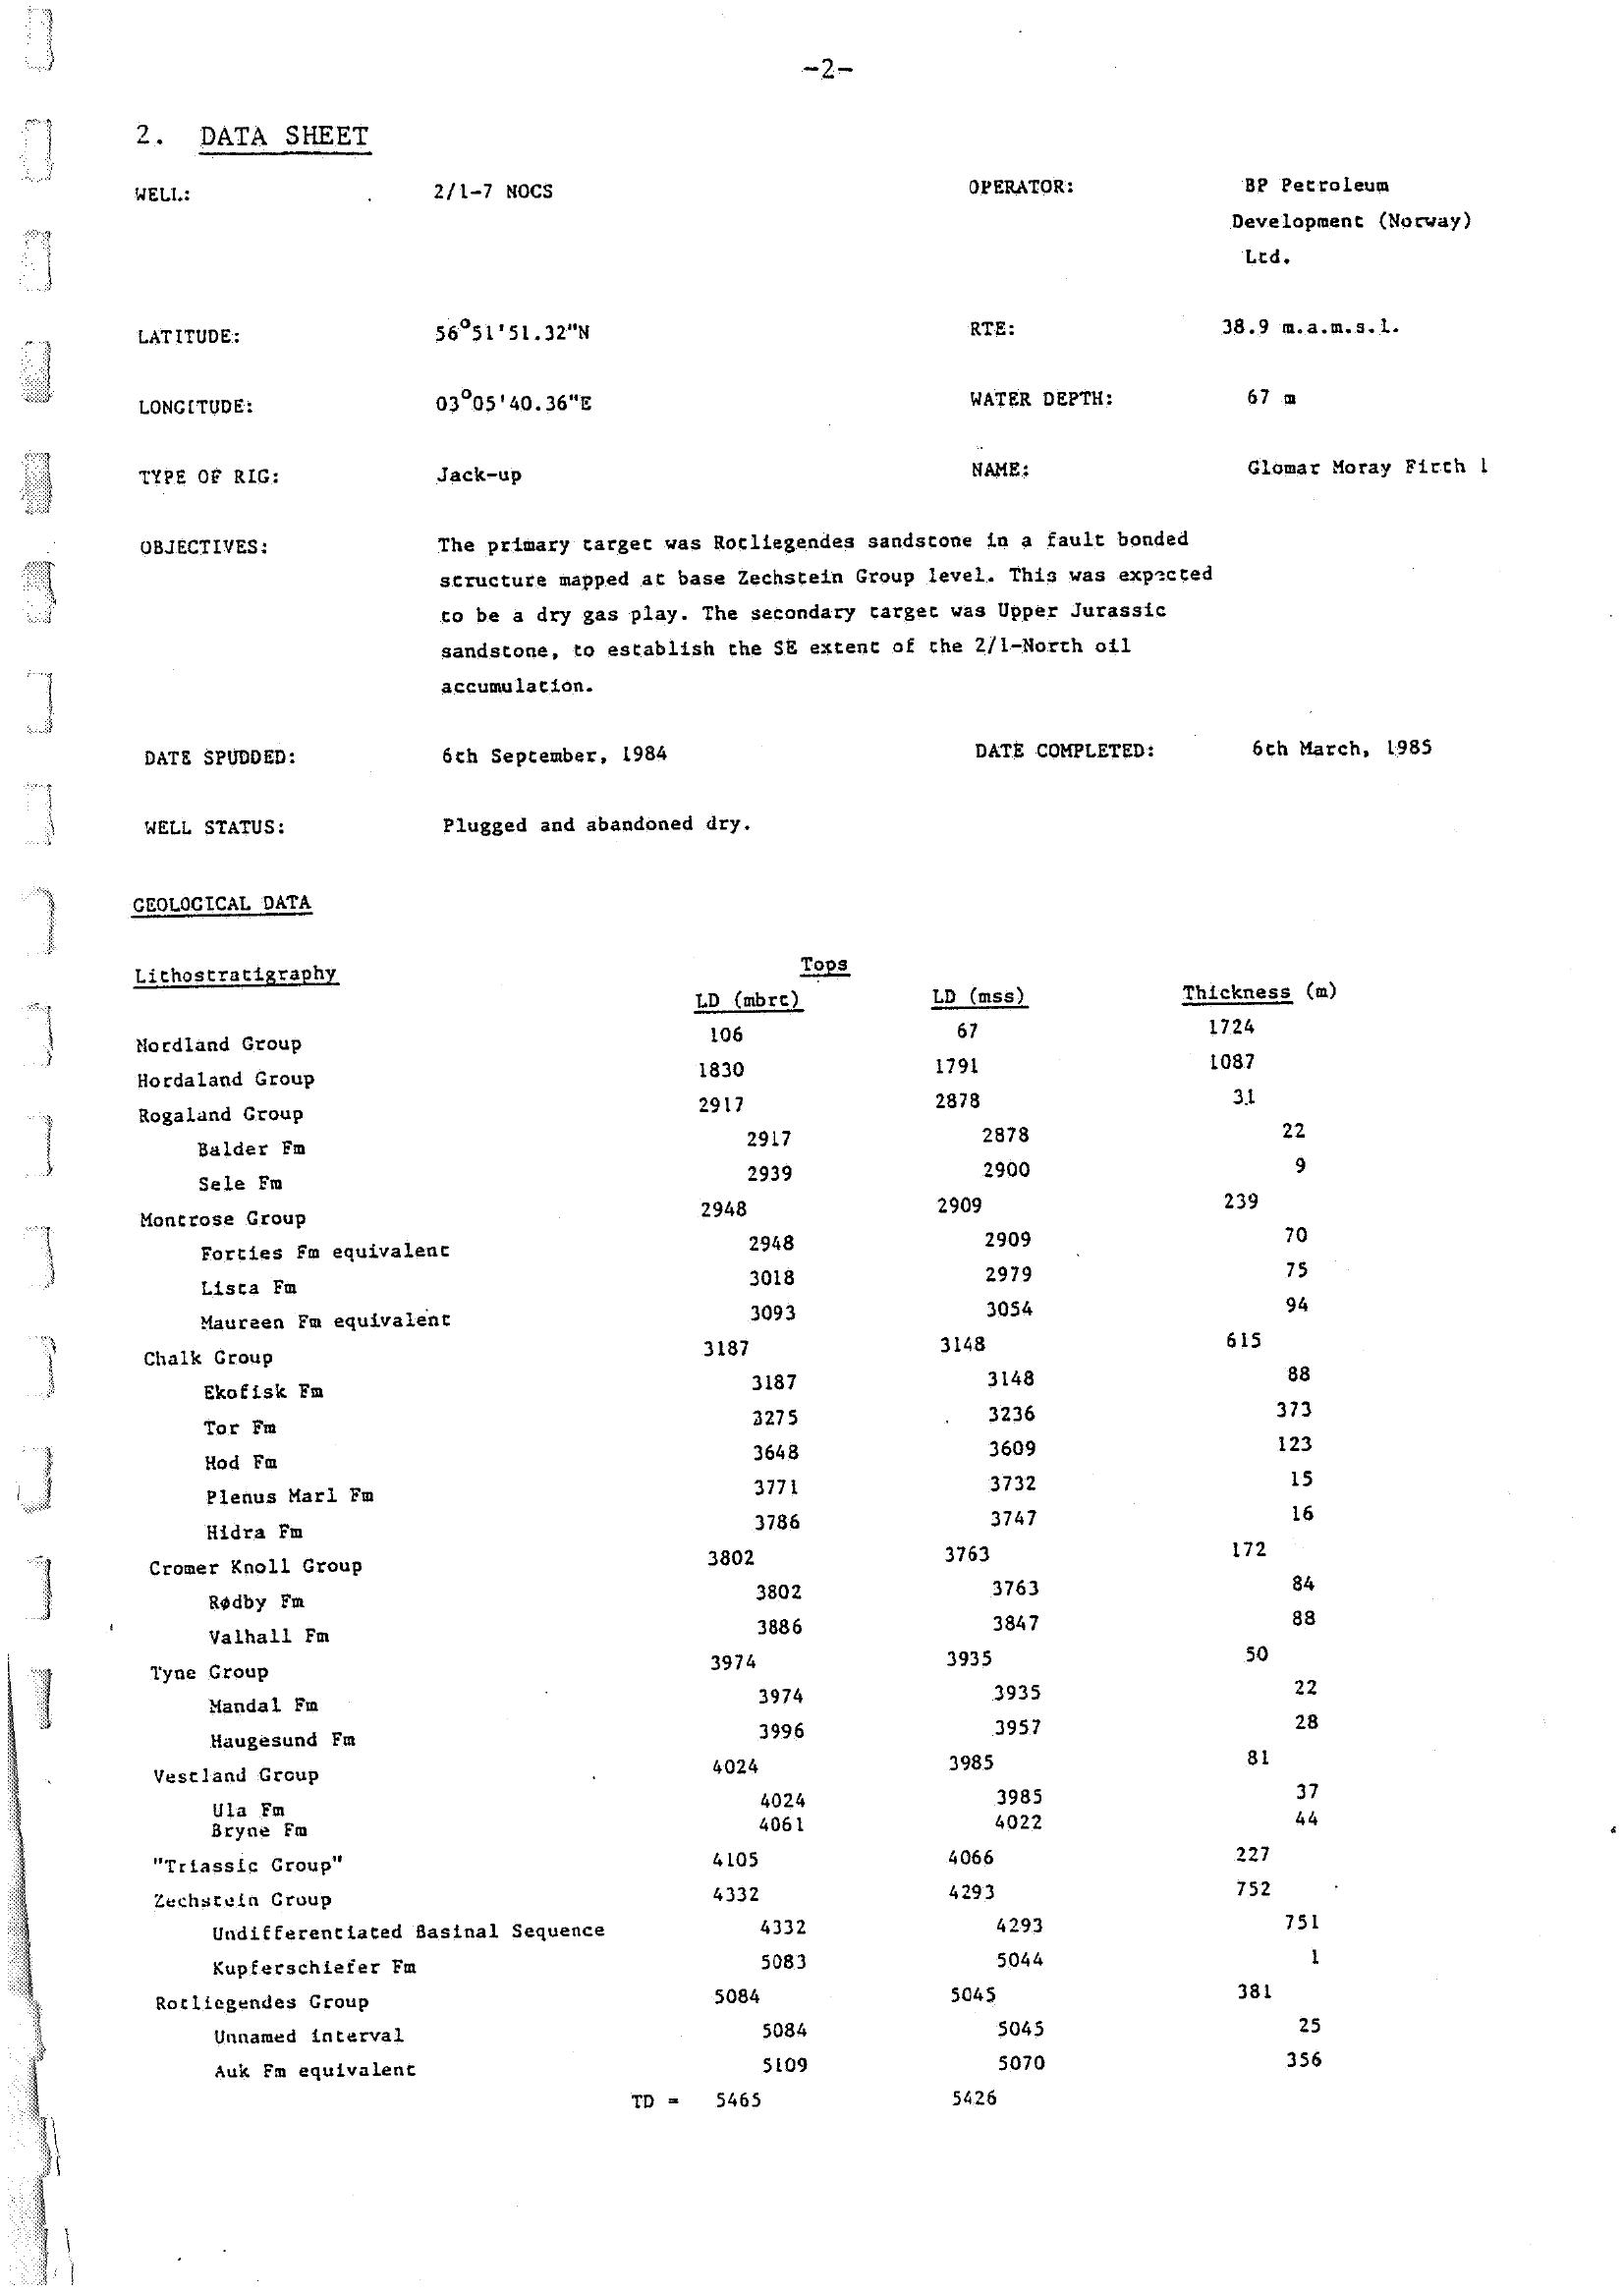table: (90, 877, 1406, 2166)
text: (90, 93, 1510, 854)
